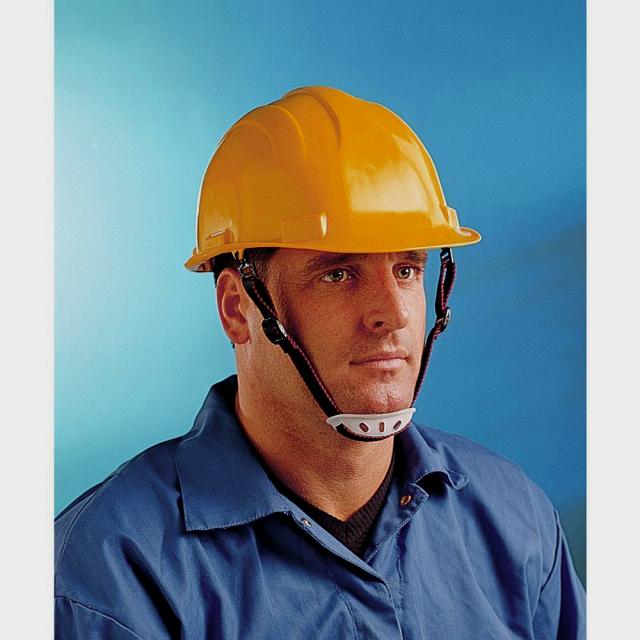face_nomask: (254, 246, 454, 431)
head_helmet: (171, 89, 469, 273)
person: (66, 73, 555, 625)
